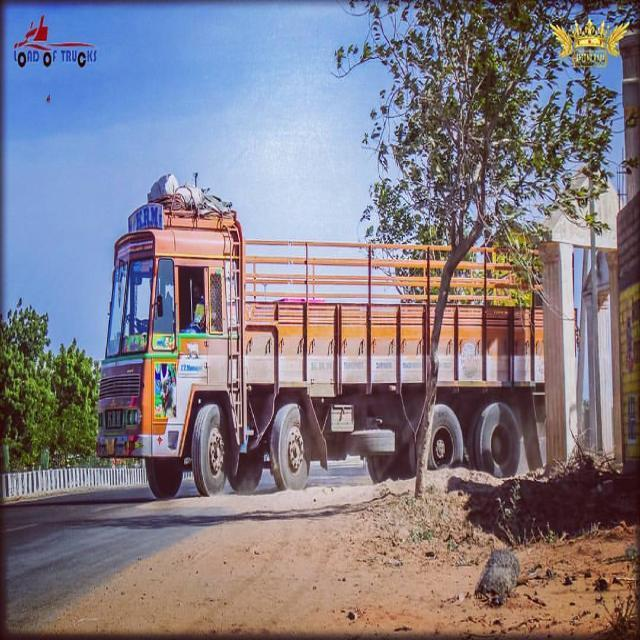Truck: (93, 173, 550, 497)
